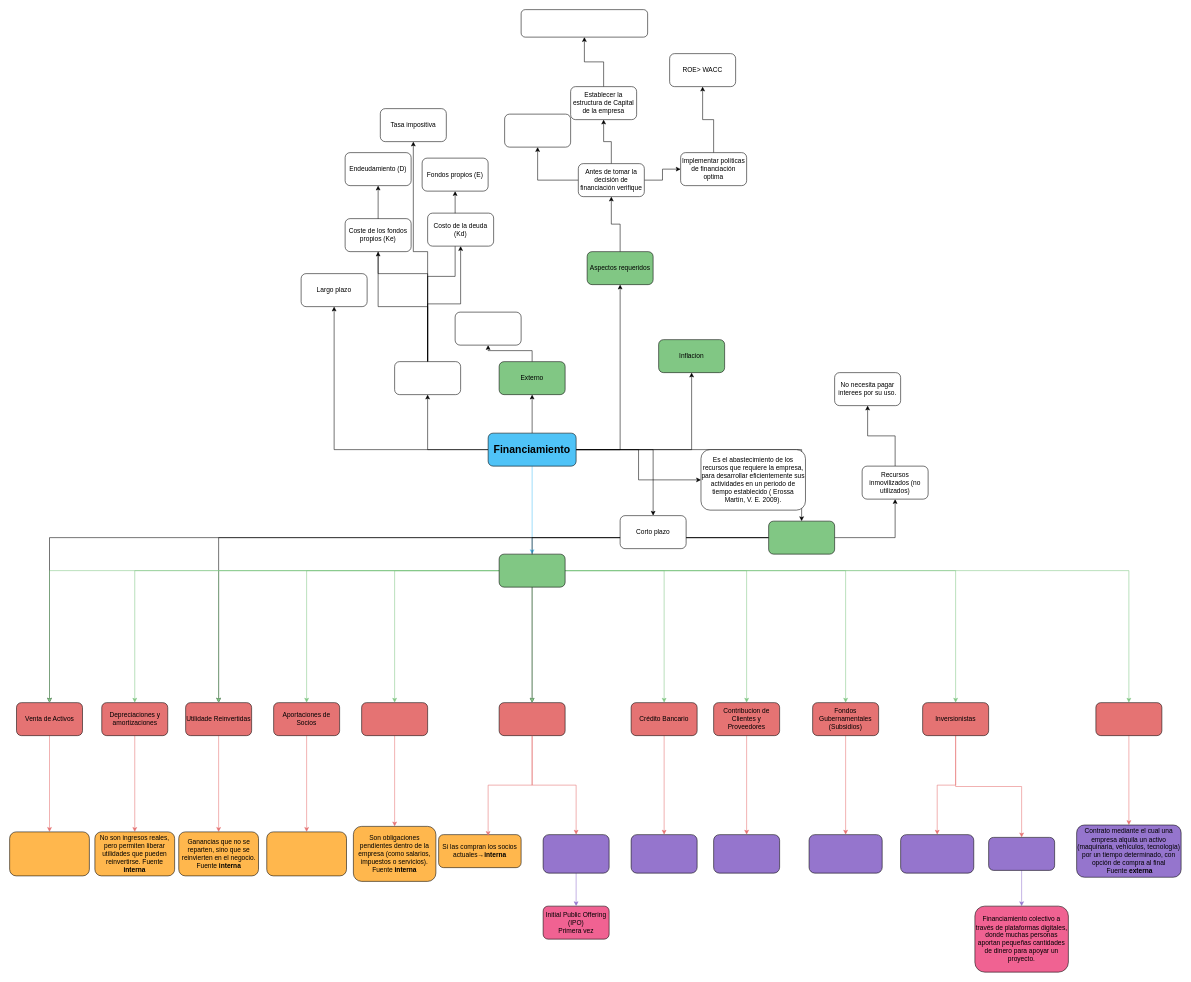
Image size: 1191x982. Some labels were removed from this diagram. The shapes that lost their labels are listed below. From the top down, each one's centre as x and y in pixels, then its label:
At point (584, 23): "ACTIVOS=PASIVOS+PATRIMONIO en porcentaje con respecto aActivos".
At point (537, 130): "Rentabilida Promedio del mercado".
At point (488, 328): "Beneficio,rebaja de la carga fiscal(beneficio fiscal de la deuda)".
At point (427, 378): "Weighted Average Cost of Capital (WACC )".
At point (801, 537): "Interno".
At point (532, 570): "Fuentes".
At point (394, 719): "Pasivos Acumulados".
At point (532, 719): "Emision de Acciones".
At point (1128, 719): "Arrendamiento Financiero".
At point (49, 853): "Se venden bienes que ya no son necesarios para obtener liquidez. Fuente interna".
At point (306, 853): "Dinero que los socios actuales invierten en la empresa. Fuente interna".
At point (576, 853): "Oferta Pública de Accion Fuente externa".
At point (664, 853): "Dinero prestado por entidades financieras. Fuente externa".
At point (746, 853): "Ambigua. Si son adelantos importantes o inversión → externa .".
At point (845, 853): "Apoyo económico de instituciones del Estado. Fuente externa".
At point (937, 853): "Personas o entidades externas que aportan capital. Fuente externa".
At point (1021, 853): "Crowdfunding Fuente externa".
